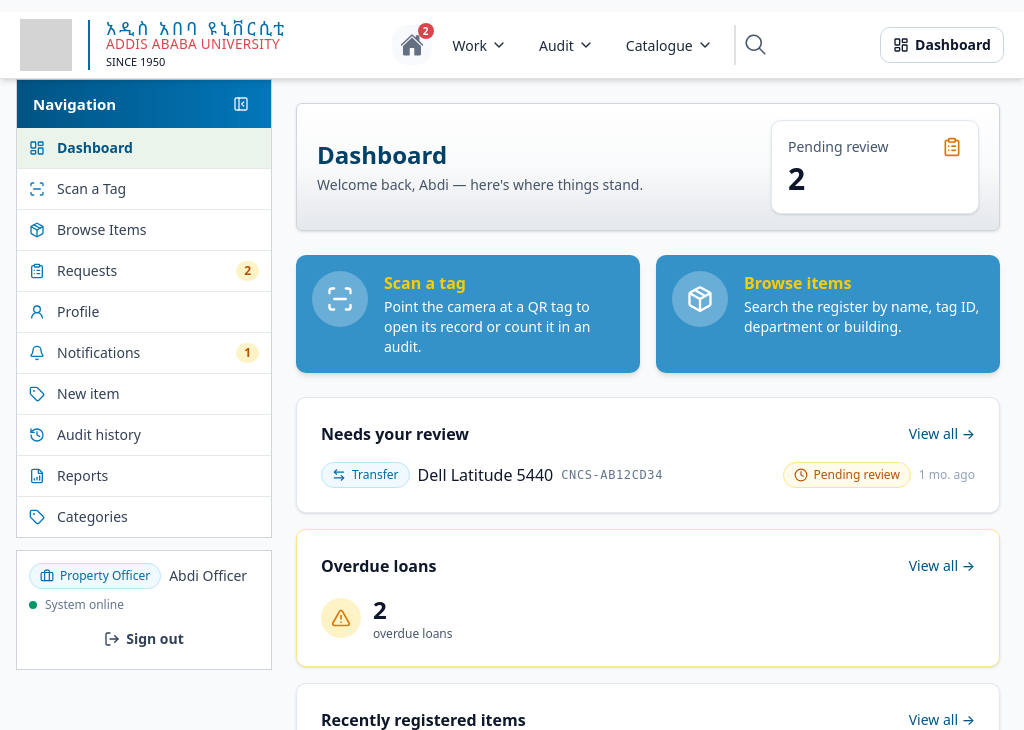
workbench shell › folds the rail to an icon rail, keeping every destination reachable
Expected: the text "Navigation" is shown, [33,93,116,115]
Click the button named "Collapse navigation" at point(241, 104), box [227,90,255,118]
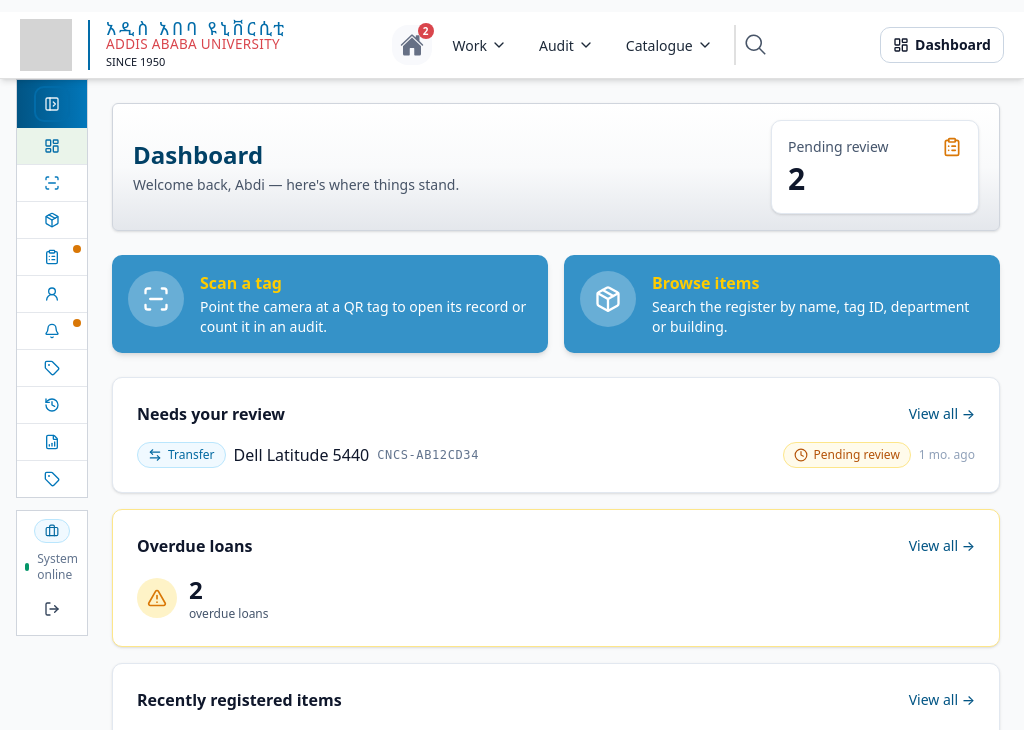
Expected: the 2nd link named "Scan a Tag" is shown, [17,165,87,201]
Expected: the text "Navigation" is gone
Expected: the button named "Expand navigation" is shown, [38,90,66,118]
